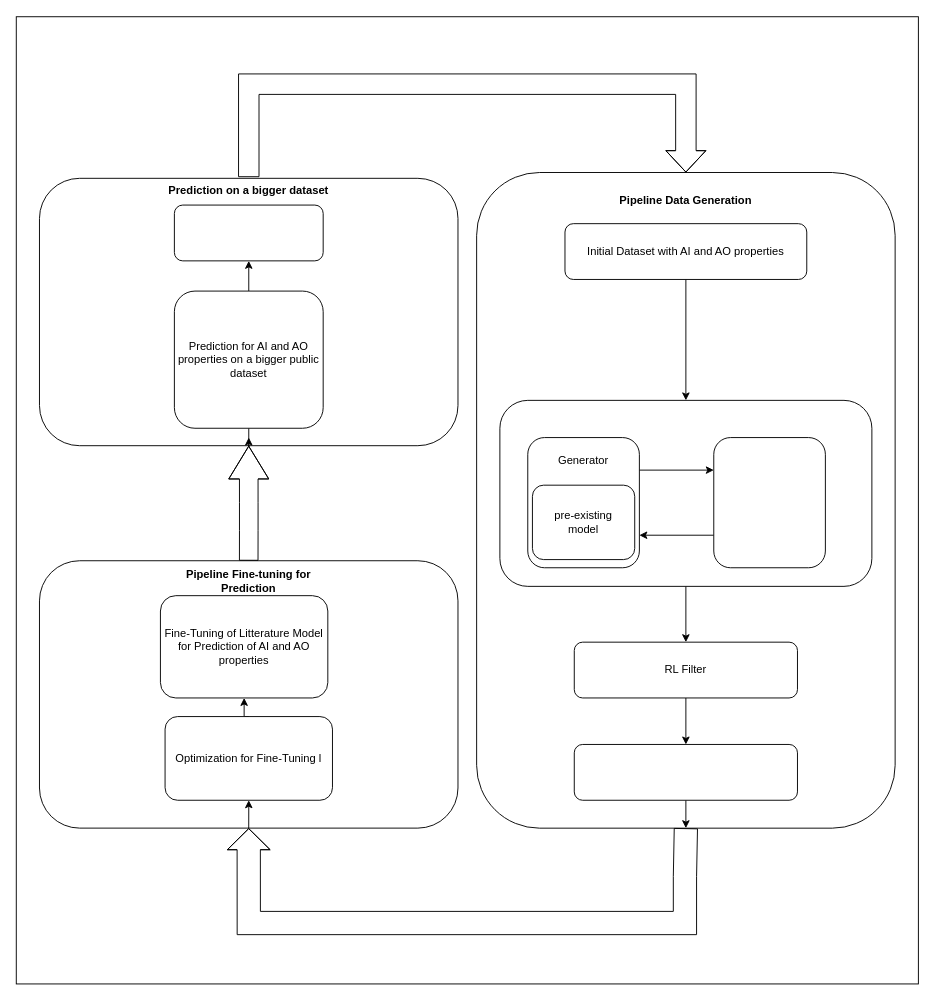
Image size: 935x1000. Some labels were removed from this diagram. Here are the shapes that lost their labels. From the top down, the centre of each, then its label:
At (x=248, y=232): "New adapted dataset".
At (x=769, y=502): "Discriminor".
At (x=685, y=772): "PCA with AI and AO".
